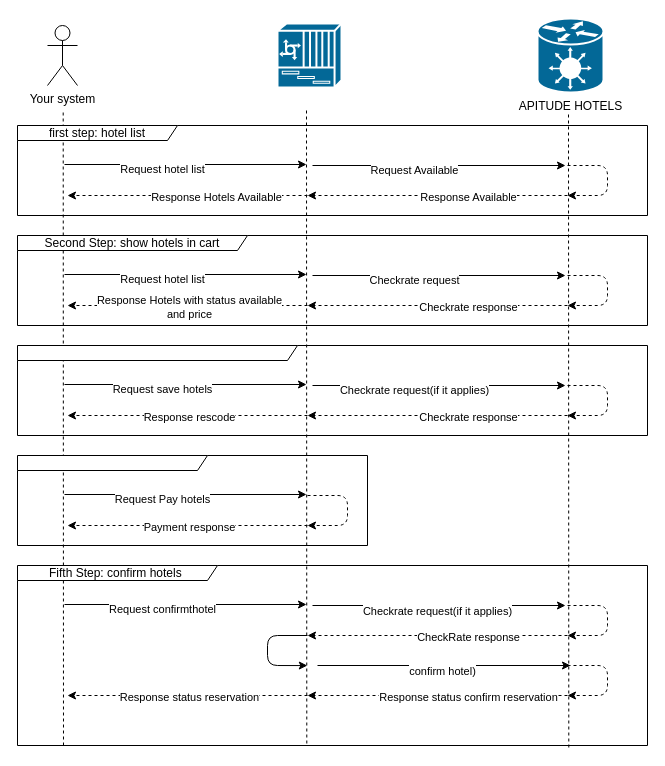
This 665x766 diagram has some shape labels left out. The shapes that lost their labels are listed below. From the top down, each one's centre as x and y in pixels, then its label:
the point at 309,55: API-BEYOND
the point at 332,390: Third Step: Save hotels in temporary table
the point at 192,500: Fourth Step: Pay hotels
